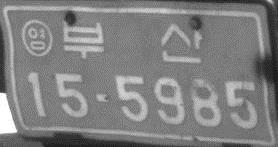-: (91, 90, 112, 105)
1: (24, 69, 51, 120)
5: (113, 71, 150, 124), (223, 77, 259, 130), (51, 71, 90, 118)
8: (189, 76, 222, 129)
9: (152, 74, 186, 126)
부산_D: (60, 18, 203, 65)
영: (20, 17, 53, 58)
